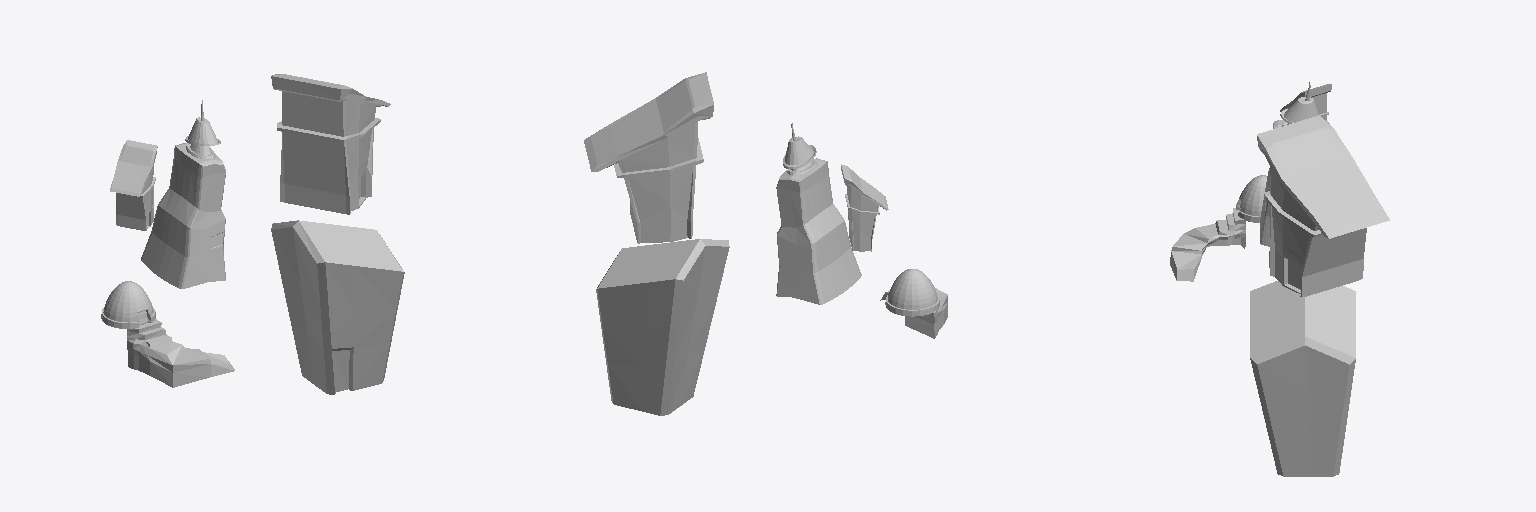
Rendered from Houses.obj.
The picture shows the model from 3 angles: view 1: azimuth 30°, elevation 25°; view 2: azimuth 150°, elevation 25°; view 3: azimuth 270°, elevation 25°; orthographic projection.
Visible parts, largest first — view 1: Houses House House2, Houses House House_4, Main_House_main Main_House Houses House, Houses House EEGoo_House_1 EEGoo_House_3, Houses House House_3 House_3, Houses House EEGoo_House_2 EEGoo_House_1, Main_House Houses House Main_House_top; view 2: Houses House House2, Houses House House_4, Main_House_main Main_House Houses House, Houses House House_3 House_3, Houses House EEGoo_House_2 EEGoo_House_1, Main_House Houses House Main_House_top, Houses House EEGoo_House_1 EEGoo_House_3; view 3: Houses House House2, Houses House House_4, Houses House EEGoo_House_1 EEGoo_House_3, Houses House EEGoo_House_2 EEGoo_House_1, Main_House Houses House Main_House_top, Main_House_main Main_House Houses House, Houses House House_3 House_3.
Boxes of the visible parts, box(x1,y1,x2,y2) form: Houses House House2: box(271, 220, 404, 394); Houses House House_4: box(271, 74, 390, 214); Main_House_main Main_House Houses House: box(141, 143, 225, 288); Houses House EEGoo_House_1 EEGoo_House_3: box(127, 319, 234, 387); Houses House House_3 House_3: box(110, 140, 157, 230); Houses House EEGoo_House_2 EEGoo_House_1: box(101, 281, 155, 328); Main_House Houses House Main_House_top: box(185, 100, 220, 158); Houses House House2: box(596, 239, 729, 415); Houses House House_4: box(584, 72, 713, 243); Main_House_main Main_House Houses House: box(776, 158, 861, 304); Houses House House_3 House_3: box(841, 164, 888, 251); Houses House EEGoo_House_2 EEGoo_House_1: box(885, 269, 939, 316); Main_House Houses House Main_House_top: box(783, 123, 816, 174); Houses House EEGoo_House_1 EEGoo_House_3: box(880, 288, 947, 338); Houses House House2: box(1250, 281, 1355, 476); Houses House House_4: box(1257, 115, 1389, 296); Houses House EEGoo_House_1 EEGoo_House_3: box(1170, 208, 1245, 281); Houses House EEGoo_House_2 EEGoo_House_1: box(1236, 175, 1266, 222); Main_House Houses House Main_House_top: box(1280, 82, 1322, 126); Main_House_main Main_House Houses House: box(1260, 120, 1329, 246); Houses House House_3 House_3: box(1280, 84, 1331, 120).
Size of the model in its own units: 78.86 by 74.31 by 47.22.